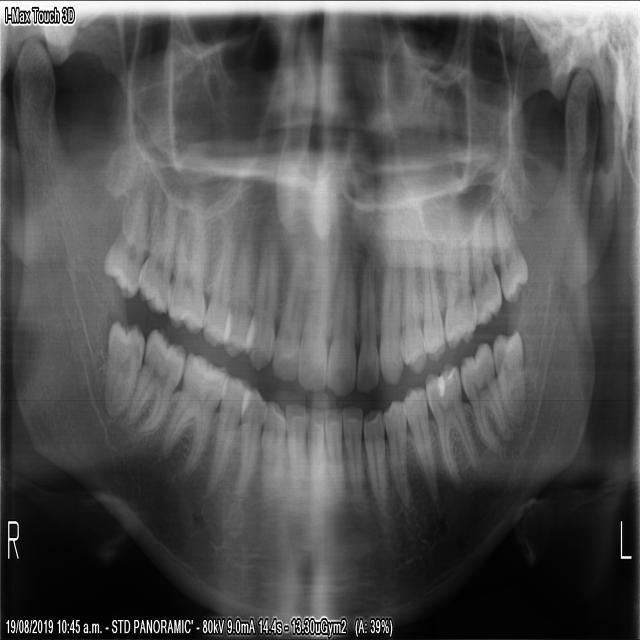LCD: (358, 401, 389, 519)
LCU: (378, 237, 404, 385)
LID: (340, 400, 365, 515), (322, 403, 345, 502)
LIU: (324, 247, 357, 400), (354, 250, 380, 397)
LMD: (420, 355, 481, 483), (457, 336, 511, 460), (489, 322, 532, 429)
LMU: (489, 190, 529, 309), (441, 230, 477, 352), (466, 207, 500, 327)
LPMD: (401, 378, 441, 516), (381, 392, 413, 513)
LPMU: (396, 237, 427, 379), (418, 244, 447, 363)
RCD: (257, 391, 286, 505)
RCU: (241, 232, 281, 374)
RID: (281, 395, 309, 503), (304, 393, 328, 501)
RIU: (291, 250, 332, 396), (269, 240, 309, 389)
RMD: (158, 342, 229, 483), (118, 318, 186, 451), (99, 311, 145, 421)
RMU: (133, 193, 179, 321), (165, 198, 207, 336), (101, 186, 150, 302)
RPMD: (199, 367, 250, 510), (231, 380, 268, 505)
RPMU: (219, 227, 256, 362), (198, 211, 234, 349)
